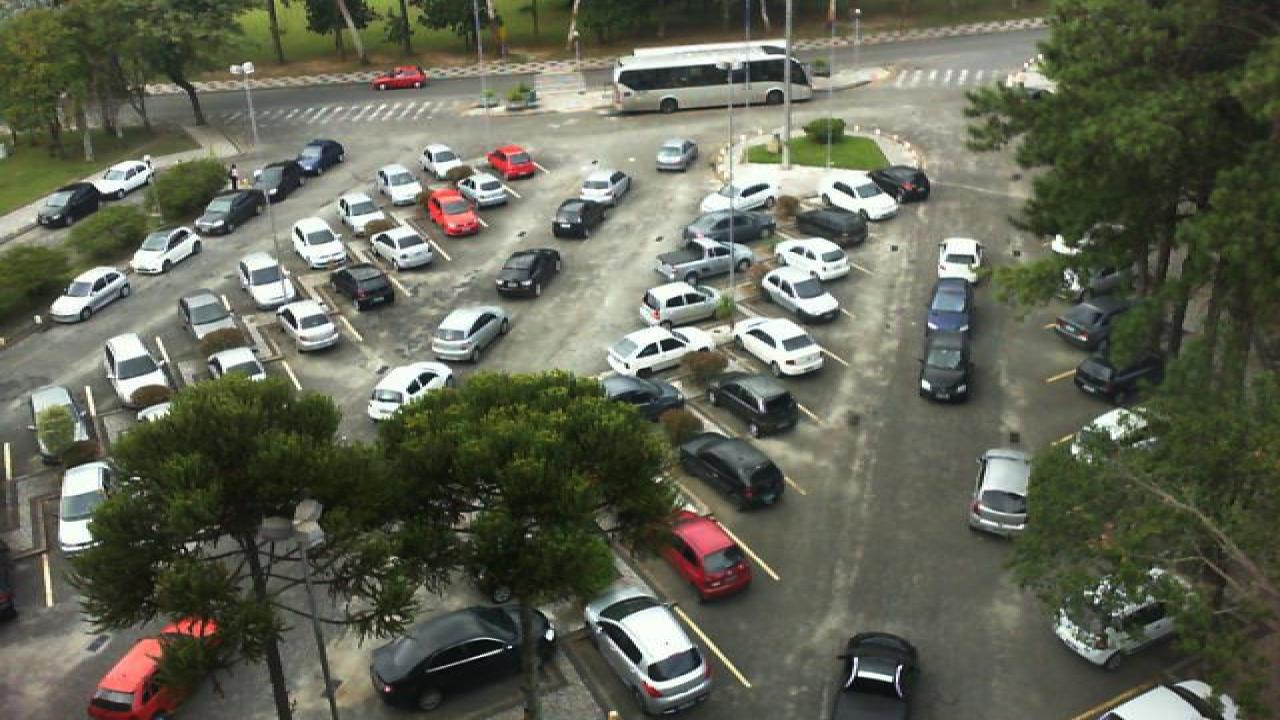Car: (370, 604, 558, 714), (584, 580, 714, 716), (88, 617, 222, 720), (1050, 574, 1180, 672), (678, 432, 786, 510), (660, 510, 752, 600), (826, 632, 920, 720), (54, 458, 116, 559), (968, 448, 1036, 539), (710, 374, 804, 436), (606, 323, 710, 379), (734, 315, 826, 378), (364, 361, 450, 423), (48, 264, 130, 322), (102, 333, 166, 407), (1072, 354, 1164, 405), (428, 305, 510, 362), (760, 269, 844, 323), (652, 238, 754, 282), (28, 382, 84, 462), (598, 371, 684, 422), (176, 290, 242, 352), (640, 282, 724, 326), (682, 207, 774, 247), (128, 226, 200, 275), (774, 236, 852, 280), (494, 248, 562, 298), (822, 180, 900, 222), (194, 189, 262, 237), (36, 181, 102, 230), (796, 206, 870, 248), (368, 226, 438, 270), (280, 298, 338, 351), (332, 264, 396, 312), (290, 215, 346, 269), (238, 250, 290, 308), (1054, 306, 1116, 353), (422, 188, 480, 238), (918, 347, 970, 402), (918, 316, 976, 362), (700, 181, 780, 214), (868, 165, 932, 206), (926, 276, 976, 328), (94, 159, 154, 199), (246, 160, 304, 201), (290, 137, 346, 179), (336, 187, 386, 233), (552, 198, 606, 240), (452, 172, 512, 208), (206, 346, 266, 382), (578, 168, 632, 206), (936, 236, 982, 280), (378, 164, 426, 206), (486, 144, 540, 180), (654, 137, 700, 172), (420, 144, 464, 178)
